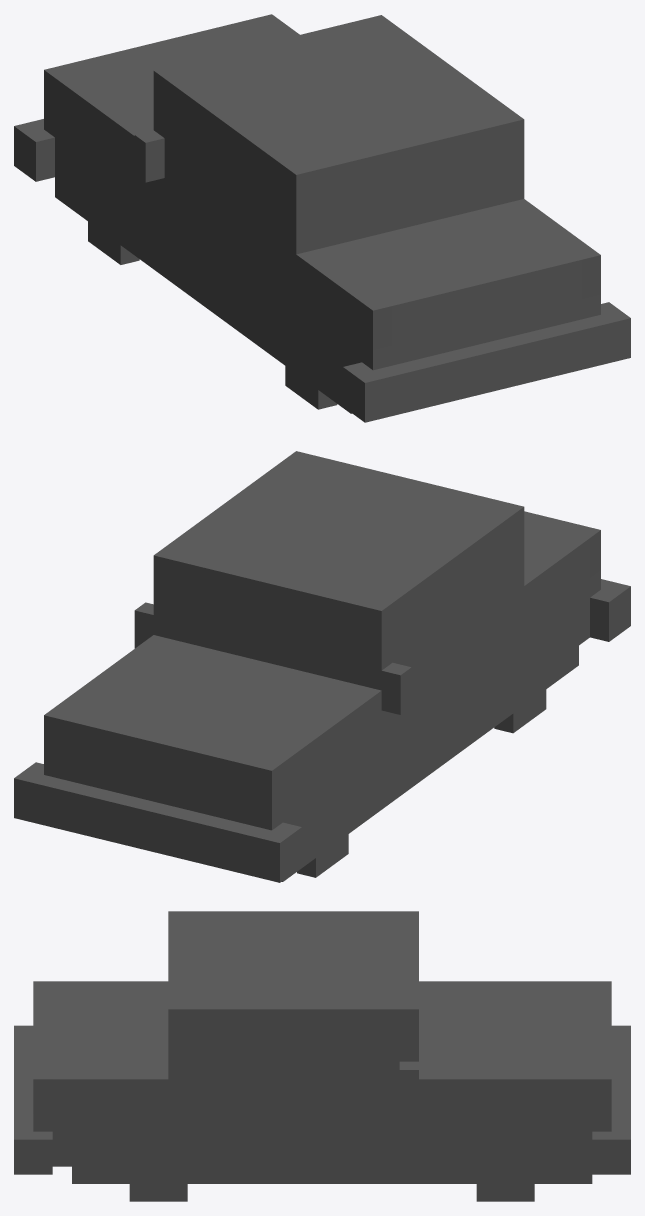
Rendered from veh_car4.obj.
3 renders of one model, top to bottom at view 1: azimuth 30°, elevation 25°; view 2: azimuth 150°, elevation 25°; view 3: azimuth 270°, elevation 25°, orthographic. The views are drawn at different scales.
Bounding box in the file's own units: 14 × 11 × 32.
